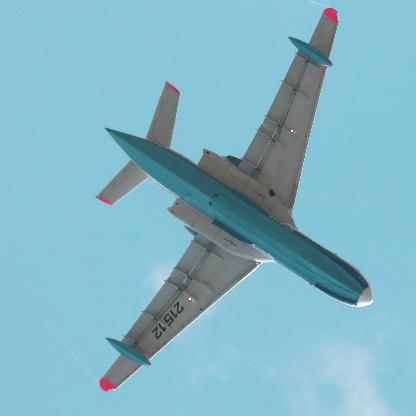B52: (95, 9, 373, 393)
